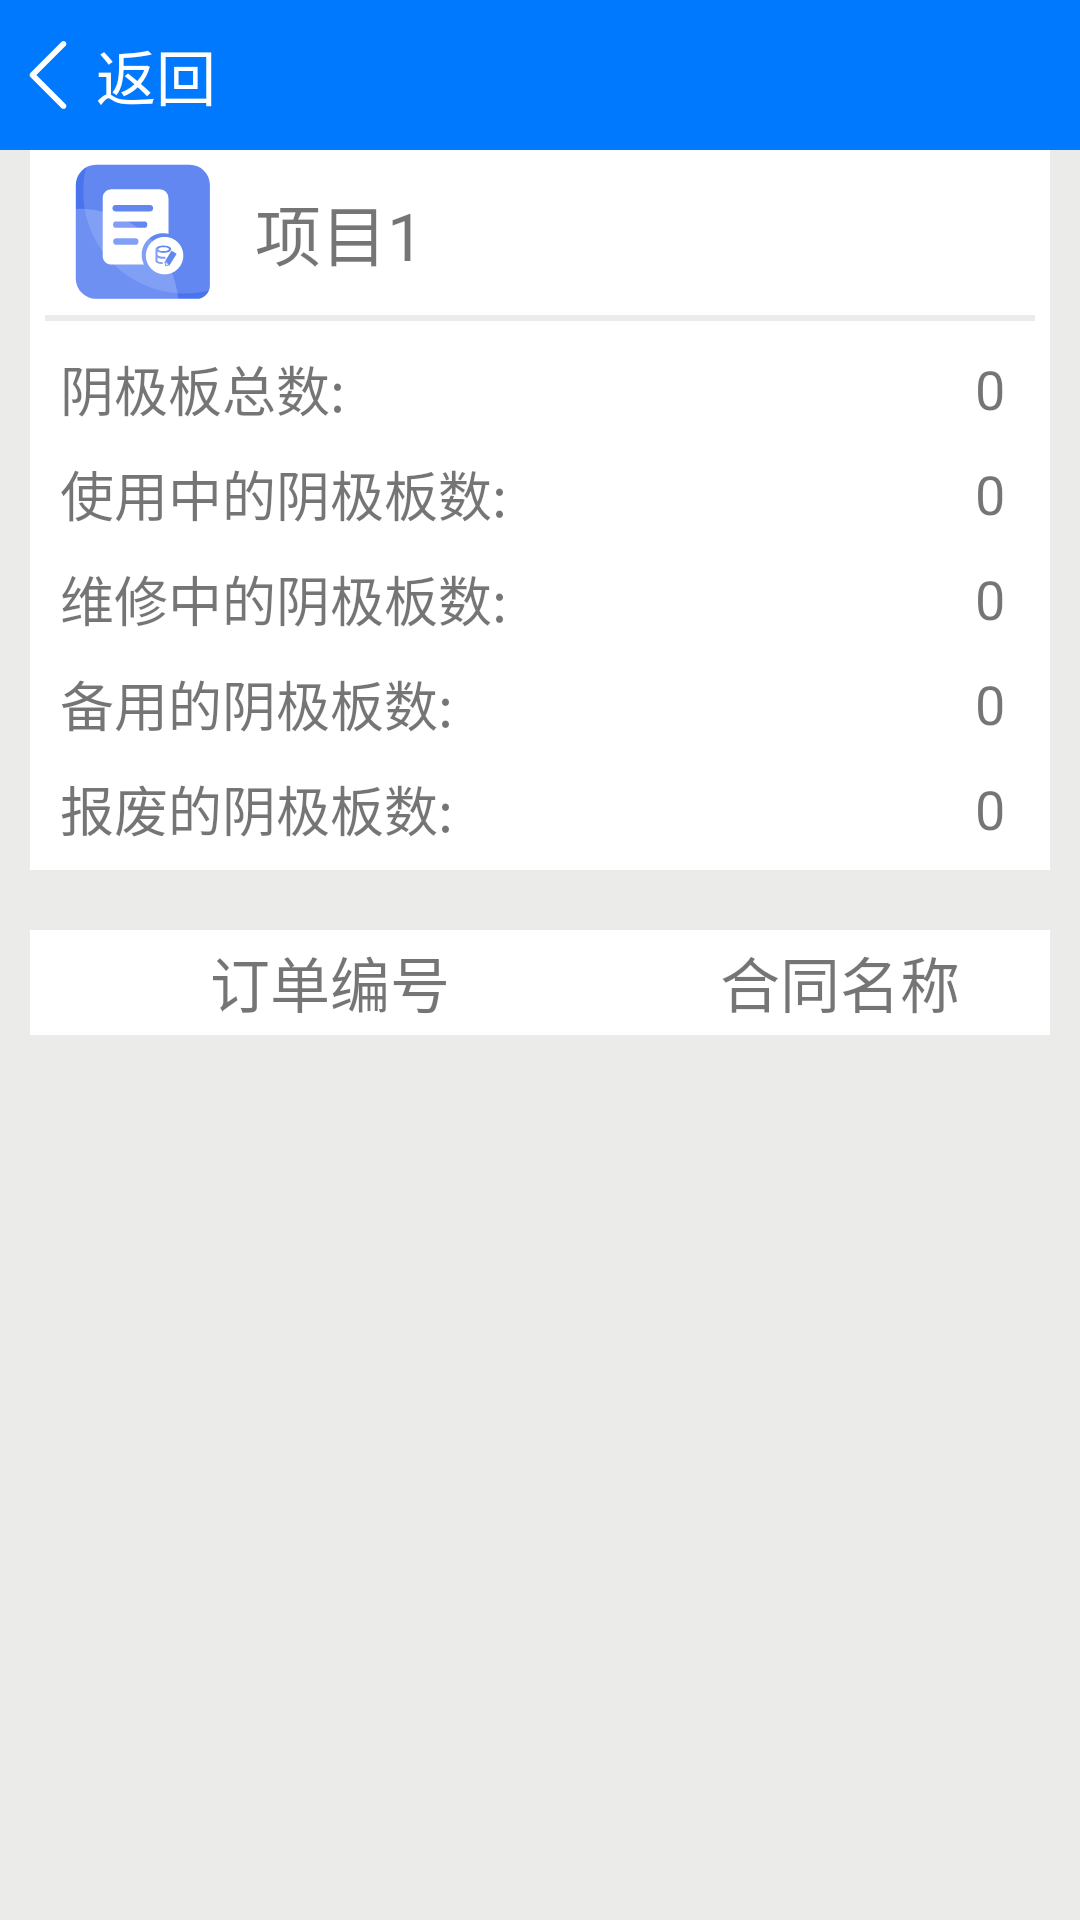

Where to tap for icons on this 1080*1920 app screen, as (x=x, y=y):
left arrow: (x=48, y=75)
project: (x=142, y=231)
